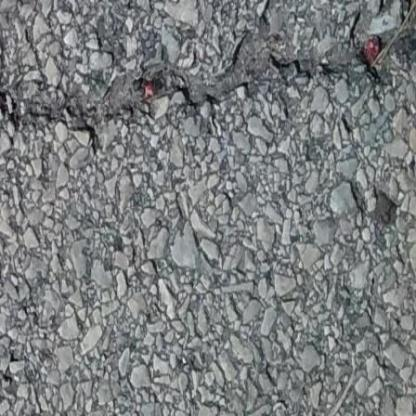Cracks: (0, 0, 416, 168)
